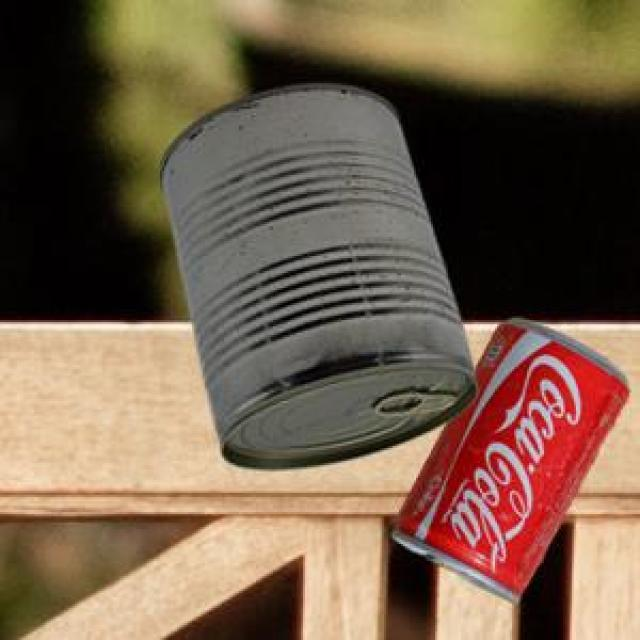Can: (157, 82, 475, 466), (389, 315, 626, 598)
